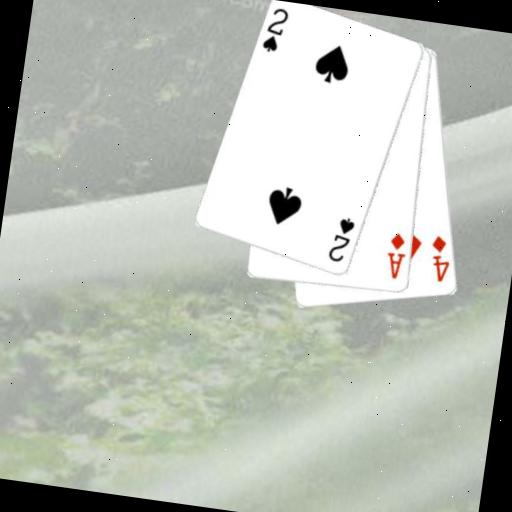2S: (258, 3, 292, 57), (324, 213, 358, 266)
4D: (424, 232, 455, 285)
AD: (382, 229, 411, 282)
